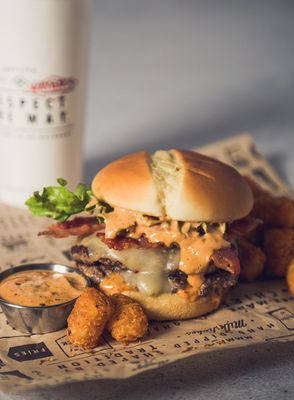pizza: (0, 78, 86, 201)
sushi: (0, 262, 88, 336)
